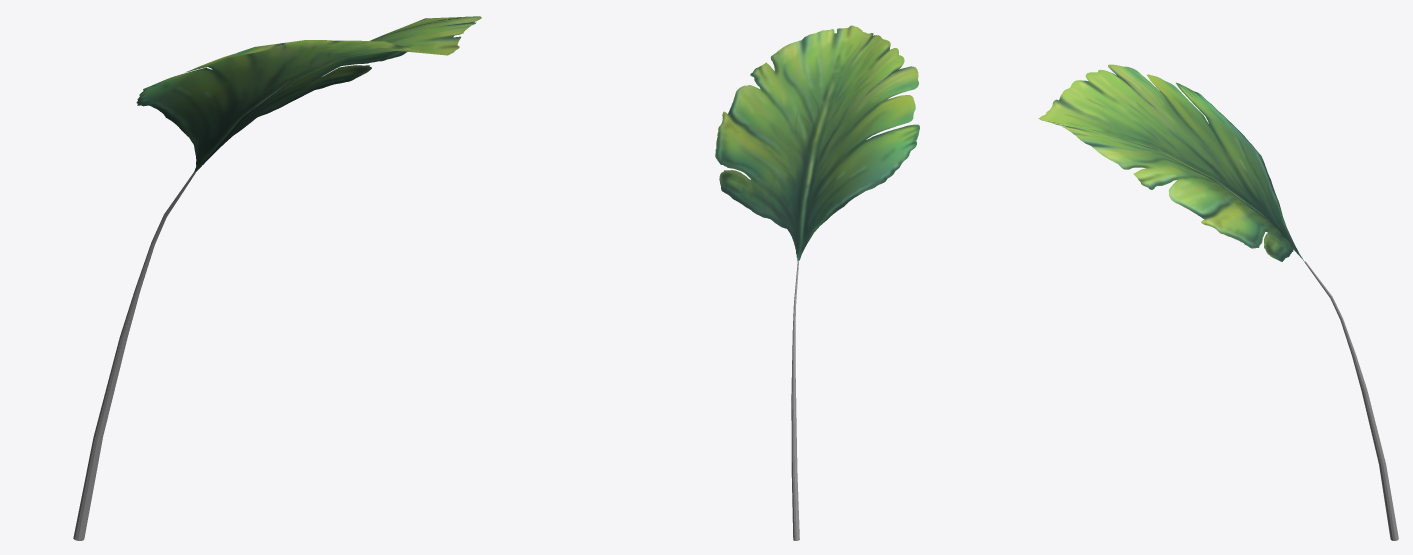
The model's file is BroadLeafBlade.fbx.
3 views of the same model, side by side, from view 1: azimuth 30°, elevation 25°; view 2: azimuth 150°, elevation 25°; view 3: azimuth 270°, elevation 25° (orthographic). The views are drawn at different scales.
Visible parts, largest first — view 1: polySurface65, polySurface66; view 2: polySurface65, polySurface66; view 3: polySurface65, polySurface66.
Boxes of the visible parts, x1,y1,x2,y2 form: polySurface65: [136, 16, 481, 172]; polySurface66: [73, 172, 195, 540]; polySurface65: [715, 25, 919, 260]; polySurface66: [791, 260, 799, 540]; polySurface65: [1038, 64, 1304, 261]; polySurface66: [1304, 261, 1398, 540].
Size of the model in its own units: 367 by 503 by 347.
2 materials, 1 textured.
